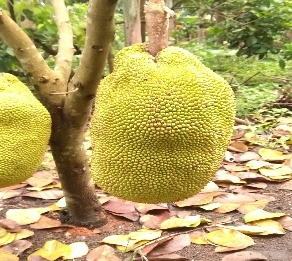Mit: (90, 44, 236, 204)
